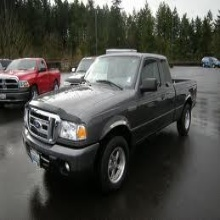no damage: (22, 51, 198, 189), (1, 56, 61, 109), (201, 56, 220, 70)
